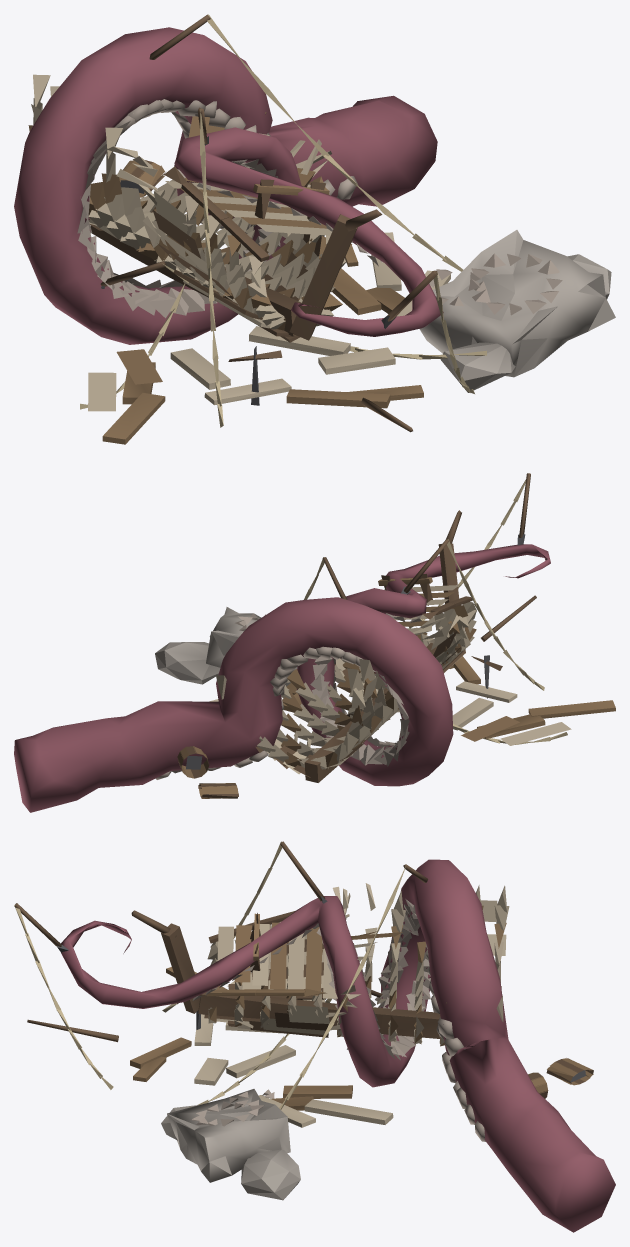
File: kraken_wreck_far.glb
The picture shows the model from 3 angles, top to bottom: view 1: azimuth 30°, elevation 25°; view 2: azimuth 150°, elevation 25°; view 3: azimuth 270°, elevation 25°; orthographic projection. The views are drawn at different scales.
Visible parts, largest first — view 1: kraken_wreck; view 2: kraken_wreck; view 3: kraken_wreck.
Part boxes in pixels (left/top/right/bottom): kraken_wreck: left=14, top=14, right=615, bottom=444; kraken_wreck: left=14, top=473, right=615, bottom=812; kraken_wreck: left=14, top=841, right=615, bottom=1232.
Size of the model in its own units: 21.89 by 11.94 by 25.63.
